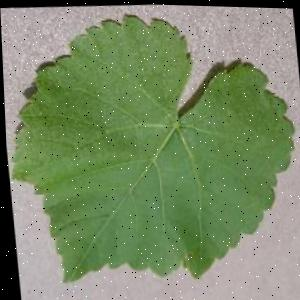Folha: (0, 2, 300, 292)
